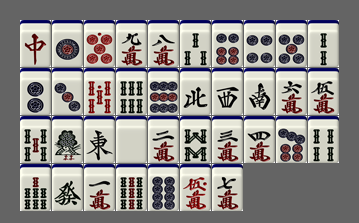0m: (180, 164, 211, 211)
0p: (84, 20, 115, 67)
0s: (84, 68, 115, 115)
1m: (84, 164, 115, 211)
1p: (52, 20, 83, 67)
1s: (52, 116, 83, 163)
1z: (84, 116, 115, 163)
2m: (148, 116, 179, 163)
2p: (20, 68, 51, 115)
2s: (308, 20, 339, 67)
2z: (244, 68, 275, 115)
3m: (212, 116, 243, 163)
3p: (52, 68, 83, 115)
3s: (180, 20, 211, 67)
3z: (212, 68, 243, 115)
4m: (244, 116, 275, 163)
4p: (244, 20, 275, 67)
4s: (308, 116, 339, 163)
4z: (180, 68, 211, 115)
5m: (308, 68, 339, 115)
5p: (276, 20, 307, 67)
5s: (20, 116, 51, 163)
5z: (116, 116, 147, 163)
6m: (276, 68, 307, 115)
6p: (212, 20, 243, 67)
6s: (116, 68, 147, 115)
6z: (52, 164, 83, 211)
7m: (212, 164, 243, 211)
7p: (276, 116, 307, 163)
7s: (20, 164, 51, 211)
7z: (20, 20, 51, 67)
8m: (148, 20, 179, 67)
8p: (148, 164, 179, 211)
8s: (180, 116, 211, 163)
9m: (116, 20, 147, 67)
9p: (148, 68, 179, 115)
9s: (116, 164, 147, 211)
